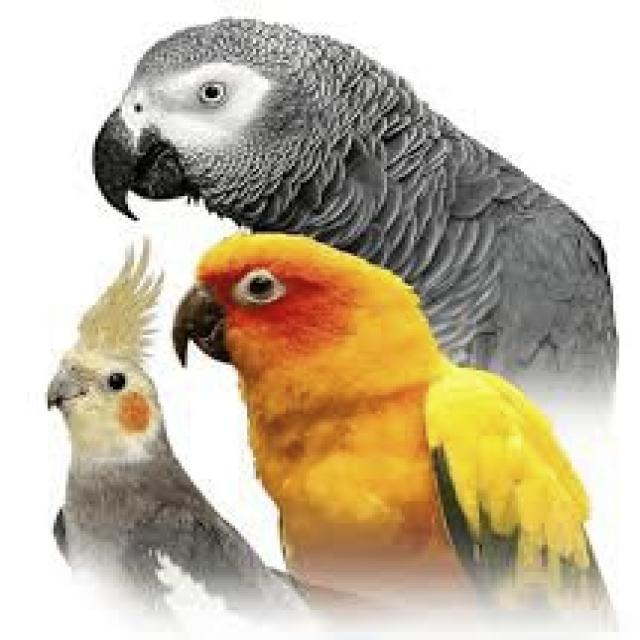parrot: (92, 19, 616, 384), (173, 234, 589, 588), (48, 240, 301, 610)
